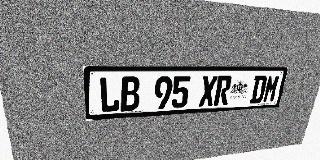5: (171, 76, 191, 108)
9: (154, 76, 173, 109)
B: (120, 77, 140, 111)
D: (249, 75, 268, 103)
L: (99, 77, 120, 113)
M: (262, 75, 281, 103)
R: (214, 76, 233, 106)
X: (198, 76, 218, 107)
